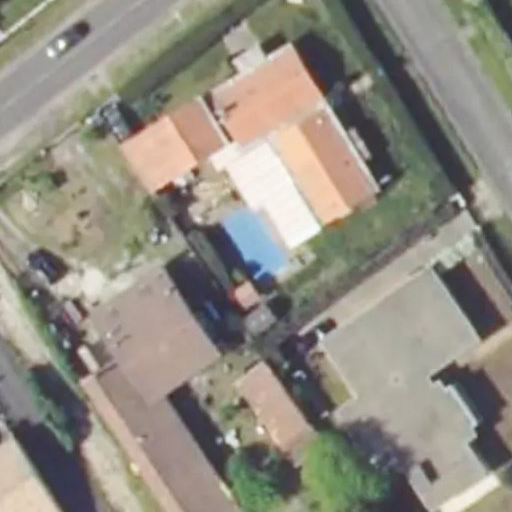pool: (223, 219, 287, 264)
